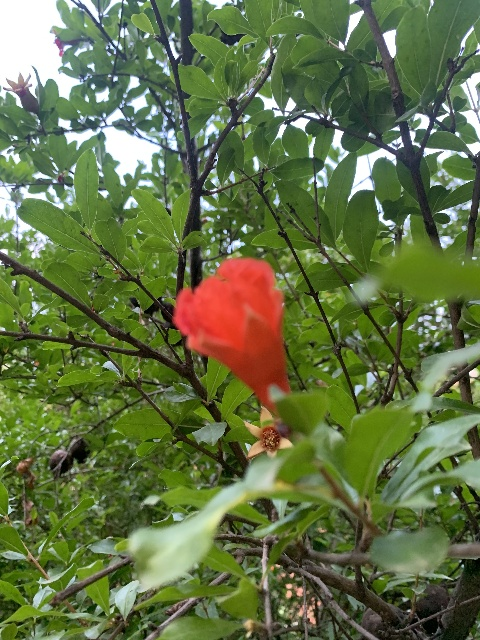early-fruit: (243, 408, 293, 460), (2, 71, 37, 113)
flower: (172, 257, 290, 411)
